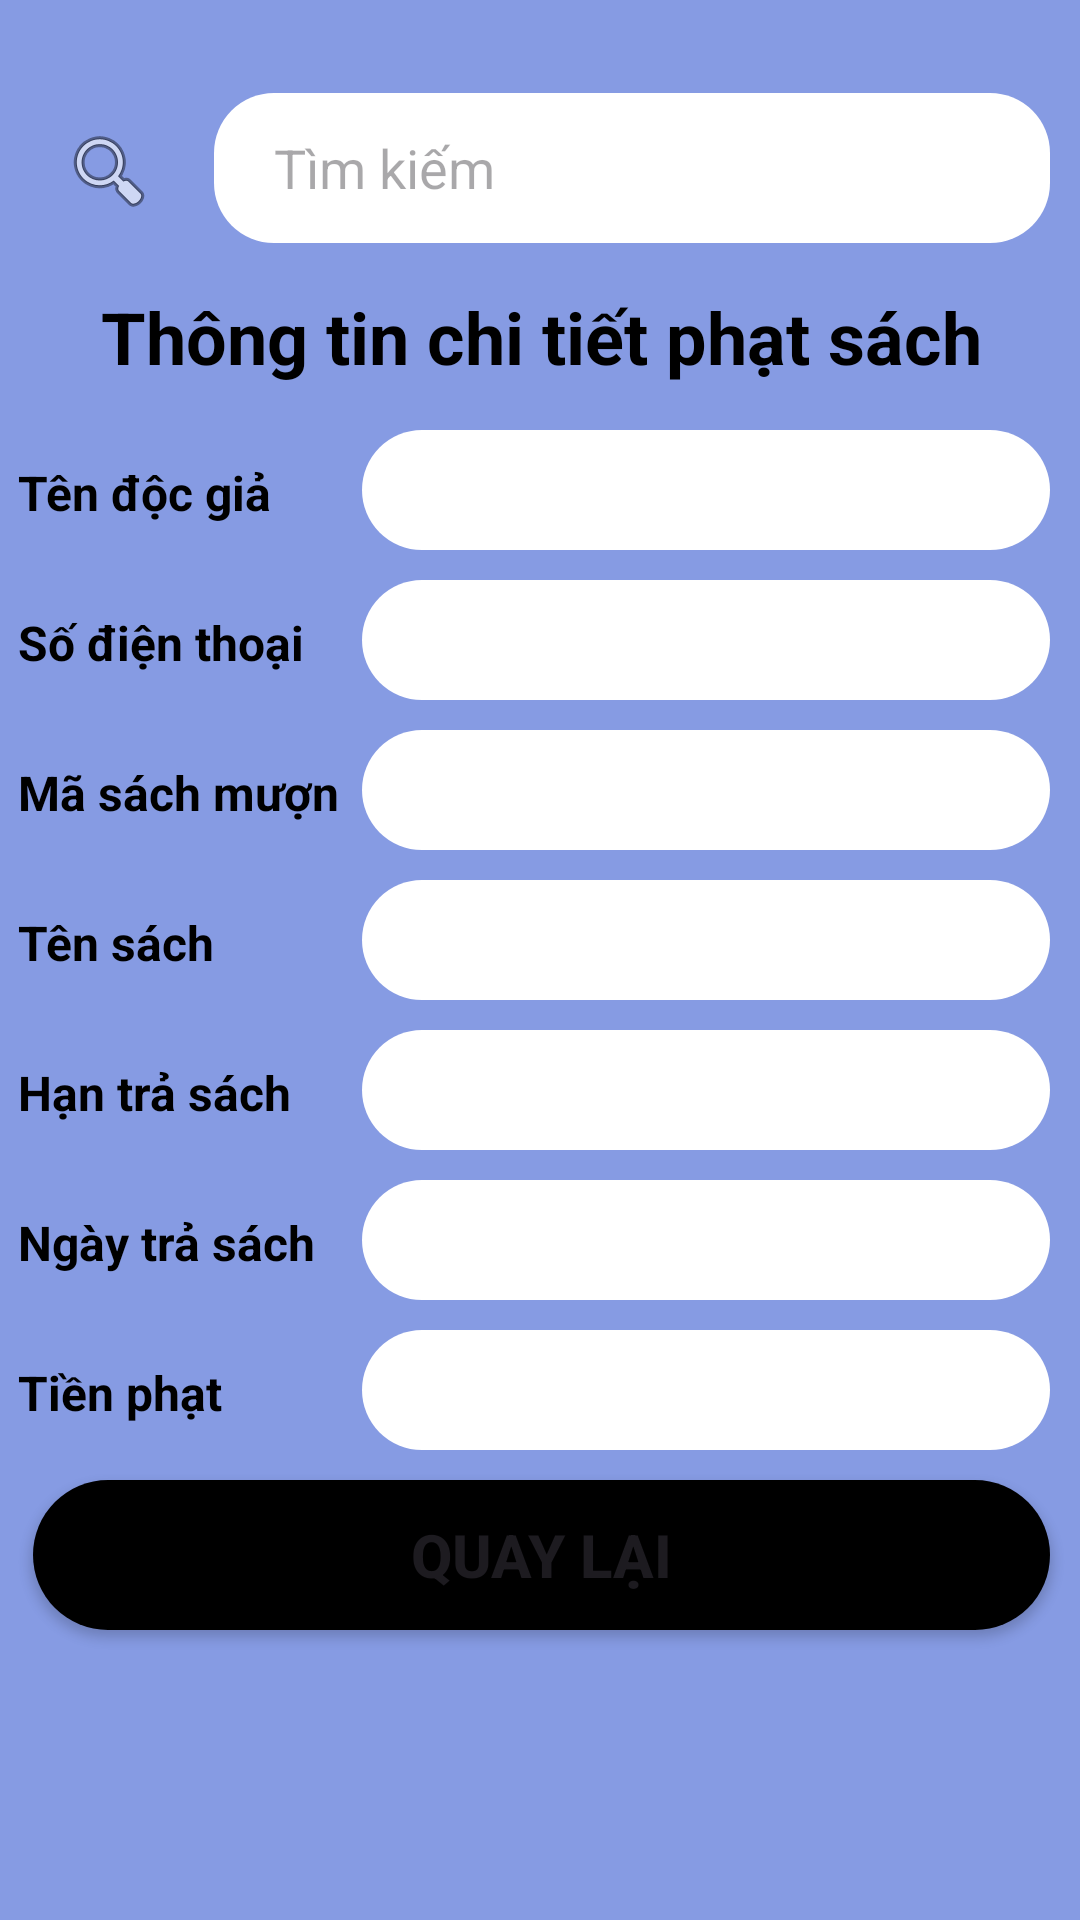

Locate icon controls on the screen. Image size 1080*1920, boxes as [left=x1, top=y1, right=x2, bottom=y2].
search: [left=73, top=136, right=145, bottom=207]
